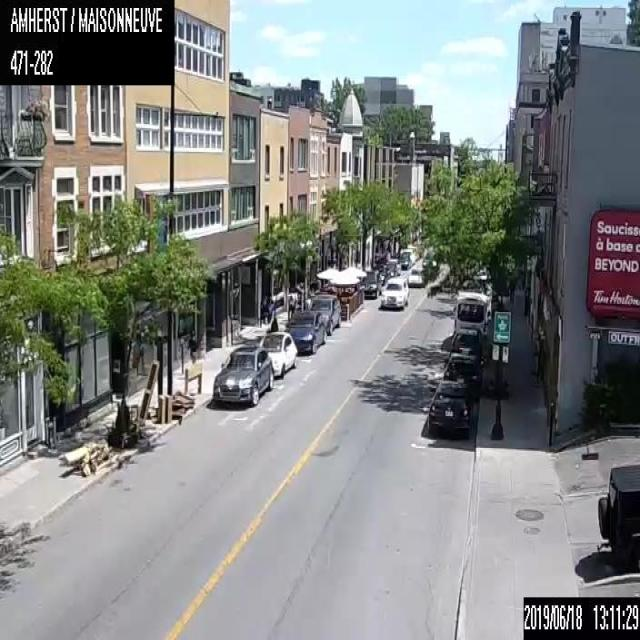vehicle: (598, 462, 639, 567), (212, 345, 273, 403), (427, 379, 474, 435), (256, 330, 297, 378), (441, 351, 485, 391), (285, 311, 326, 352), (453, 294, 487, 340), (307, 292, 341, 335), (450, 328, 483, 357), (381, 277, 409, 309), (358, 269, 382, 297), (408, 268, 426, 287), (387, 257, 400, 275), (382, 261, 396, 277), (396, 254, 411, 268), (402, 248, 414, 262)
